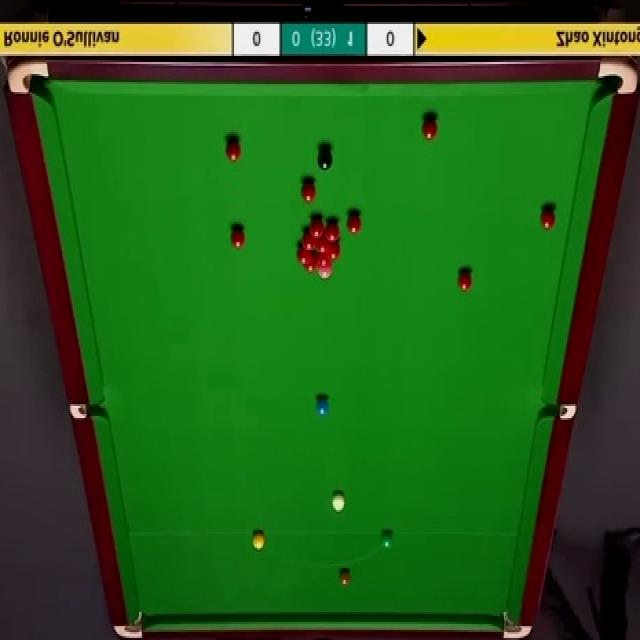pocket: (7, 58, 50, 97), (597, 57, 637, 98), (111, 606, 145, 640), (501, 611, 531, 640), (540, 403, 576, 420), (68, 404, 104, 418)
